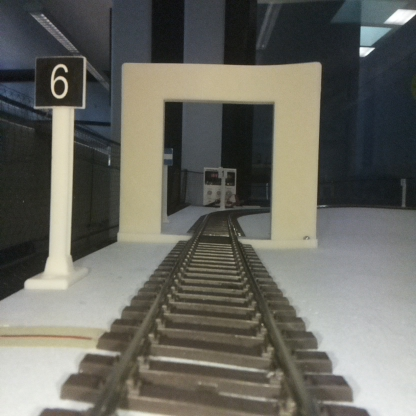black-info-6: (35, 57, 83, 285)
start: (162, 147, 173, 222)
